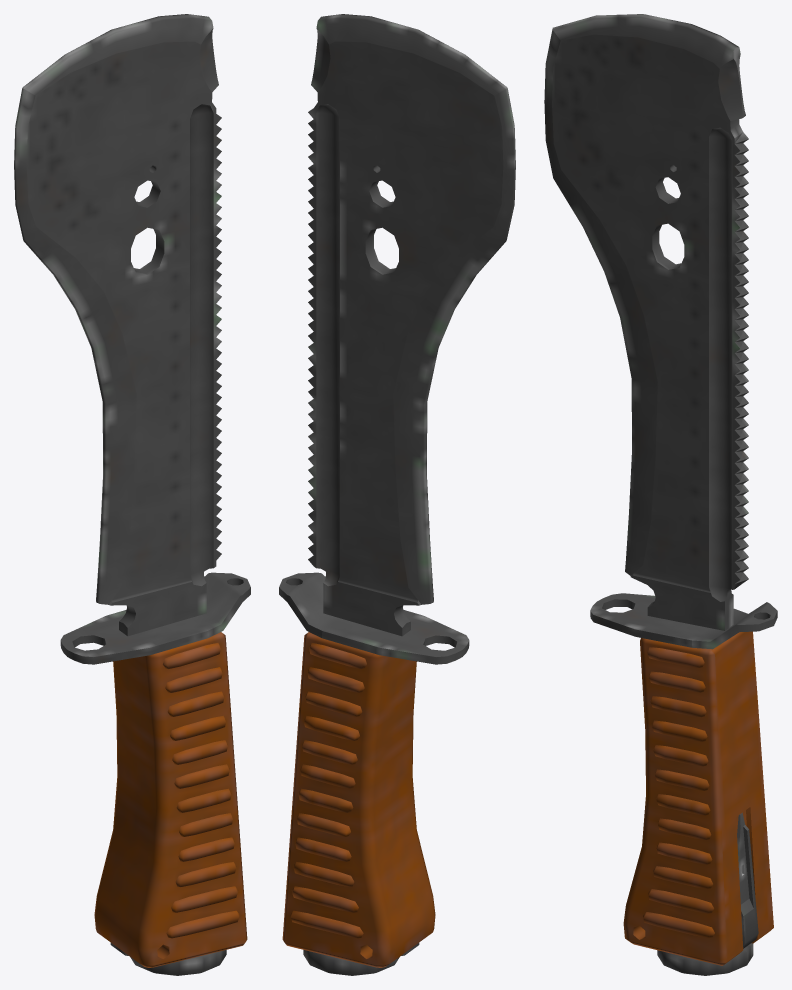
The model's file is survival_tool_1.obj.
3 renders of one model, left to right at view 1: azimuth 30°, elevation 25°; view 2: azimuth 150°, elevation 25°; view 3: azimuth 330°, elevation 25°, orthographic.
Visible parts, largest first — view 1: Blade_low, Grip_low, Guard_low, Round_thing_for_grip_low; view 2: Blade_low, Grip_low, Guard_low, Round_thing_for_grip_low; view 3: Blade_low, Grip_low, Guard_low, Round_thing_for_grip_low.
Part boxes in pixels (<box>): Blade_low: <box>14,14,221,636</box>; Grip_low: <box>94,632,247,967</box>; Guard_low: <box>60,572,250,664</box>; Round_thing_for_grip_low: <box>110,943,226,975</box>; Blade_low: <box>308,14,515,636</box>; Grip_low: <box>282,632,435,967</box>; Guard_low: <box>279,572,469,664</box>; Round_thing_for_grip_low: <box>303,943,419,975</box>; Blade_low: <box>544,14,748,630</box>; Grip_low: <box>623,631,773,965</box>; Guard_low: <box>590,593,777,649</box>; Round_thing_for_grip_low: <box>657,812,758,975</box>.
Bounding box in the file's own units: 0.2421 × 0.938 × 0.104.
